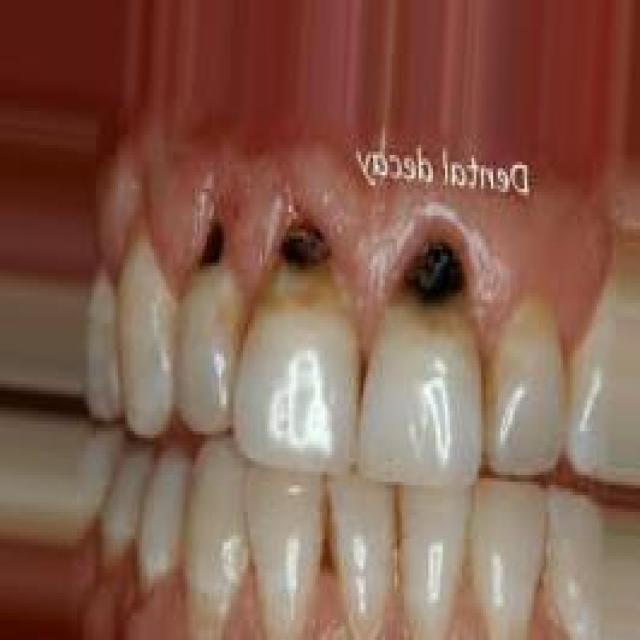caries: (383, 221, 480, 346), (251, 216, 349, 328), (183, 208, 247, 298)
